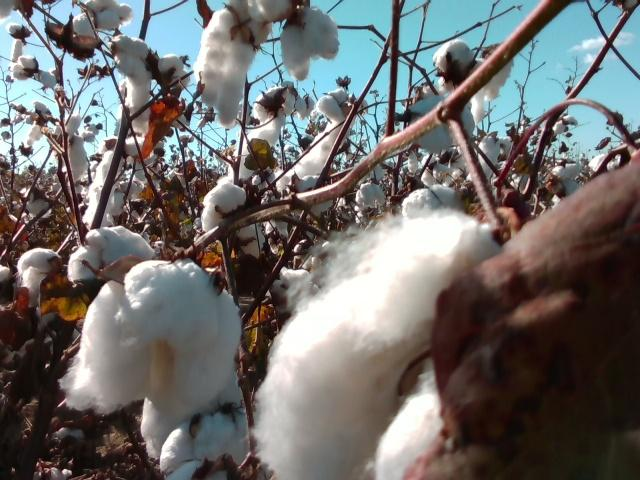cotton_ready: (253, 211, 508, 480), (62, 262, 241, 458), (196, 0, 270, 127), (275, 89, 368, 190), (111, 32, 192, 129), (227, 85, 300, 181), (435, 48, 516, 127), (82, 136, 150, 225), (160, 417, 252, 473), (68, 228, 156, 284), (204, 181, 265, 256), (279, 7, 339, 82), (403, 94, 478, 150), (18, 248, 58, 309), (55, 113, 89, 177), (403, 187, 456, 225), (466, 131, 504, 184), (70, 0, 132, 32), (434, 40, 473, 85), (551, 162, 590, 203), (167, 461, 236, 480), (354, 181, 386, 220), (249, 0, 292, 24)
